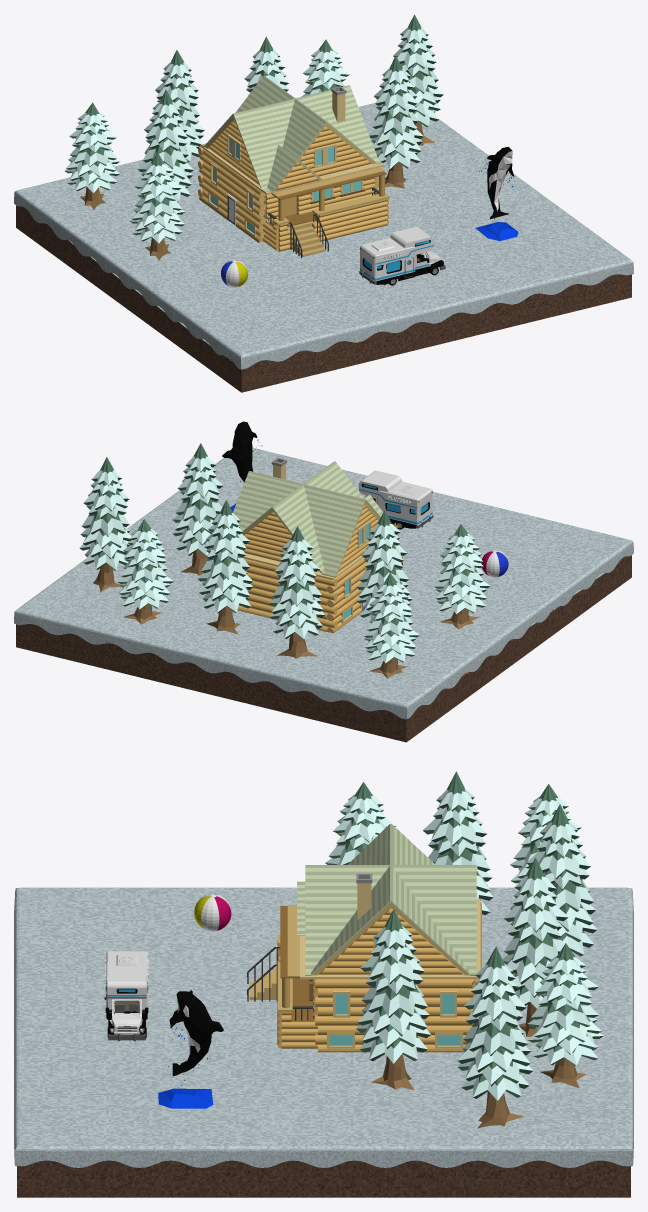
3 renders of one model, top to bottom at view 1: azimuth 30°, elevation 25°; view 2: azimuth 150°, elevation 25°; view 3: azimuth 270°, elevation 25°, orthographic. The views are drawn at different scales.
Parts seen in each view (by area): view 1: Cube.003, Cube.1516, VEHICLES_CAMPER, ANIMAL_ORCA, OBJRANDOM_BEACHBALL; view 2: Cube.003, Cube.1516, VEHICLES_CAMPER, ANIMAL_ORCA, OBJRANDOM_BEACHBALL; view 3: Cube.003, Cube.1516, VEHICLES_CAMPER, ANIMAL_ORCA, OBJRANDOM_BEACHBALL.
Part boxes in pixels (x1,y1,x2,y2): Cube.003: (14, 14, 633, 392); Cube.1516: (198, 75, 390, 257); VEHICLES_CAMPER: (359, 227, 445, 285); ANIMAL_ORCA: (475, 146, 518, 240); OBJRANDOM_BEACHBALL: (221, 260, 247, 287); Cube.003: (14, 443, 633, 742); Cube.1516: (233, 458, 403, 633); VEHICLES_CAMPER: (358, 470, 433, 529); ANIMAL_ORCA: (222, 421, 262, 511); OBJRANDOM_BEACHBALL: (481, 550, 508, 577); Cube.003: (14, 771, 633, 1197); Cube.1516: (247, 824, 481, 1052); VEHICLES_CAMPER: (104, 951, 149, 1041); ANIMAL_ORCA: (158, 990, 223, 1108); OBJRANDOM_BEACHBALL: (194, 894, 231, 931).
Size of the model in its own units: 4040 by 1844 by 4040.
Materials: 35 (4 with a texture image).
